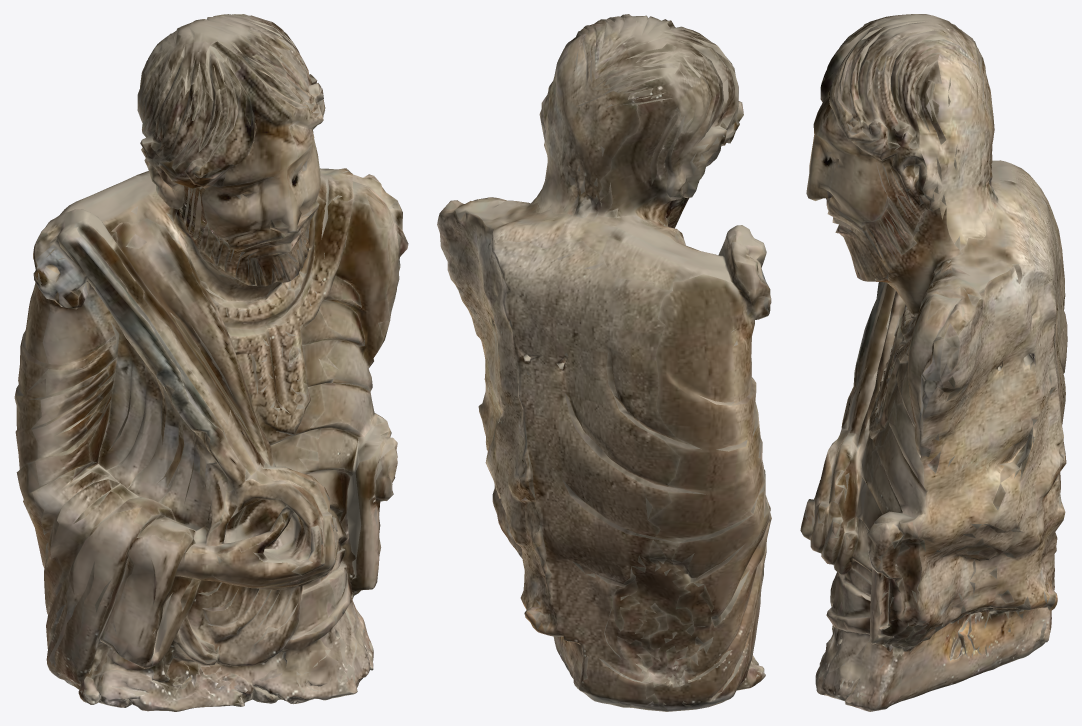
The model's file is saint-peter-a.glb.
3 renders of one model, left to right at view 1: azimuth 30°, elevation 25°; view 2: azimuth 150°, elevation 25°; view 3: azimuth 270°, elevation 25°, orthographic. The views are drawn at different scales.
Visible parts, largest first — view 1: Mesh; view 2: Mesh; view 3: Mesh.
Part boxes in pixels (x1,y1,x2,y2): Mesh: [14, 14, 408, 711]; Mesh: [437, 14, 771, 711]; Mesh: [800, 14, 1067, 711].
Size of the model in its own units: 0.432 by 0.762 by 0.292.
Materials: 1 (1 with a texture image).
